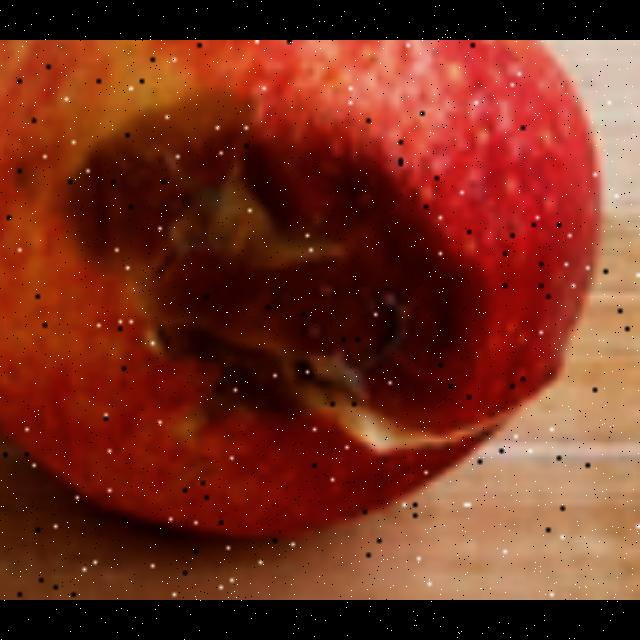Apel Tidak Segar: (0, 40, 602, 575)
